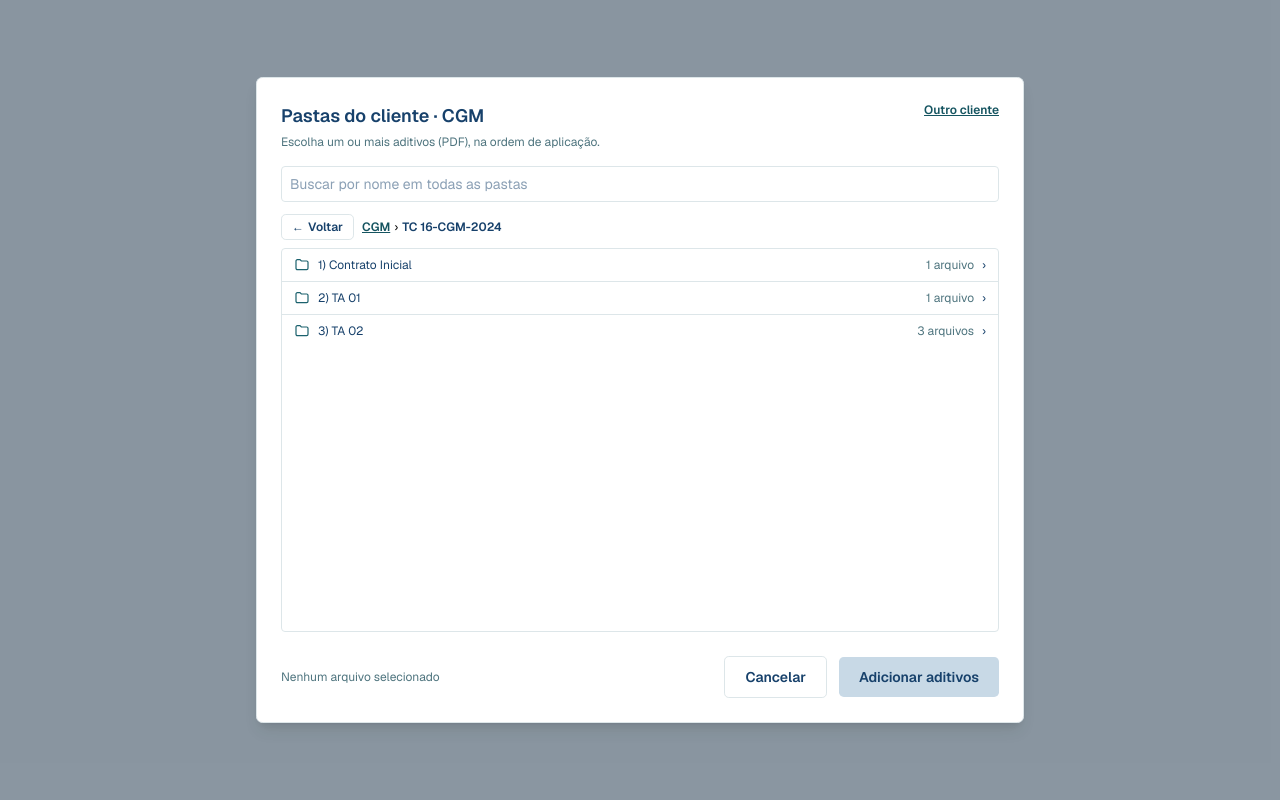
Test: aditivo que já está na lista aparece marcado e não pode ser escolhido de novo
What coordinates should you click on to do the following:
click the button "2) TA 01 1 arquivo ›"
I would click on:
 (339, 298)
Its box is x1=282 y1=282 x2=998 y2=314.
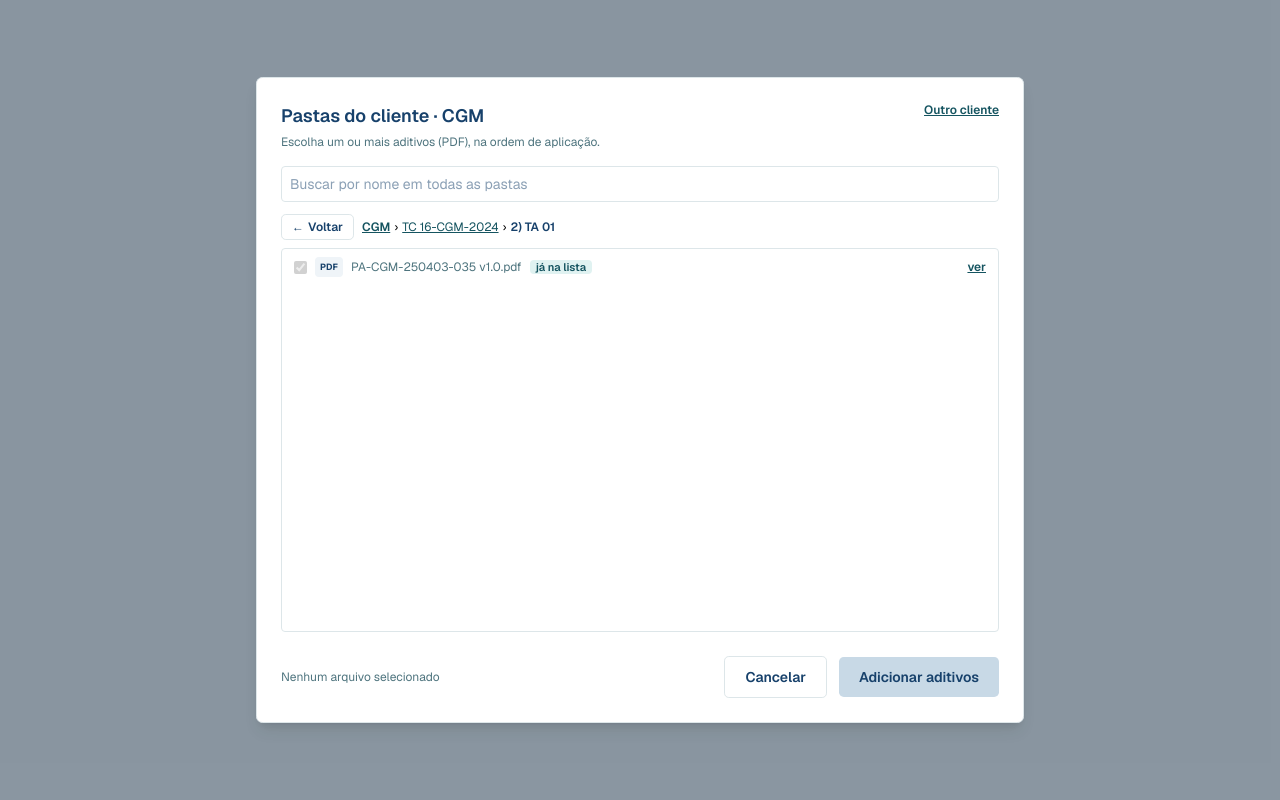
Expected: the checkbox labelled "PDF PA-CGM-250403-035 v1.0.pdf já na lista" is disabled, x1=294 y1=260 x2=307 y2=274
Expected: the checkbox labelled "PDF PA-CGM-250403-035 v1.0.pdf já na lista" is checked, x1=294 y1=260 x2=307 y2=274
Expected: the text "já na lista" is shown, x1=530 y1=260 x2=592 y2=274
